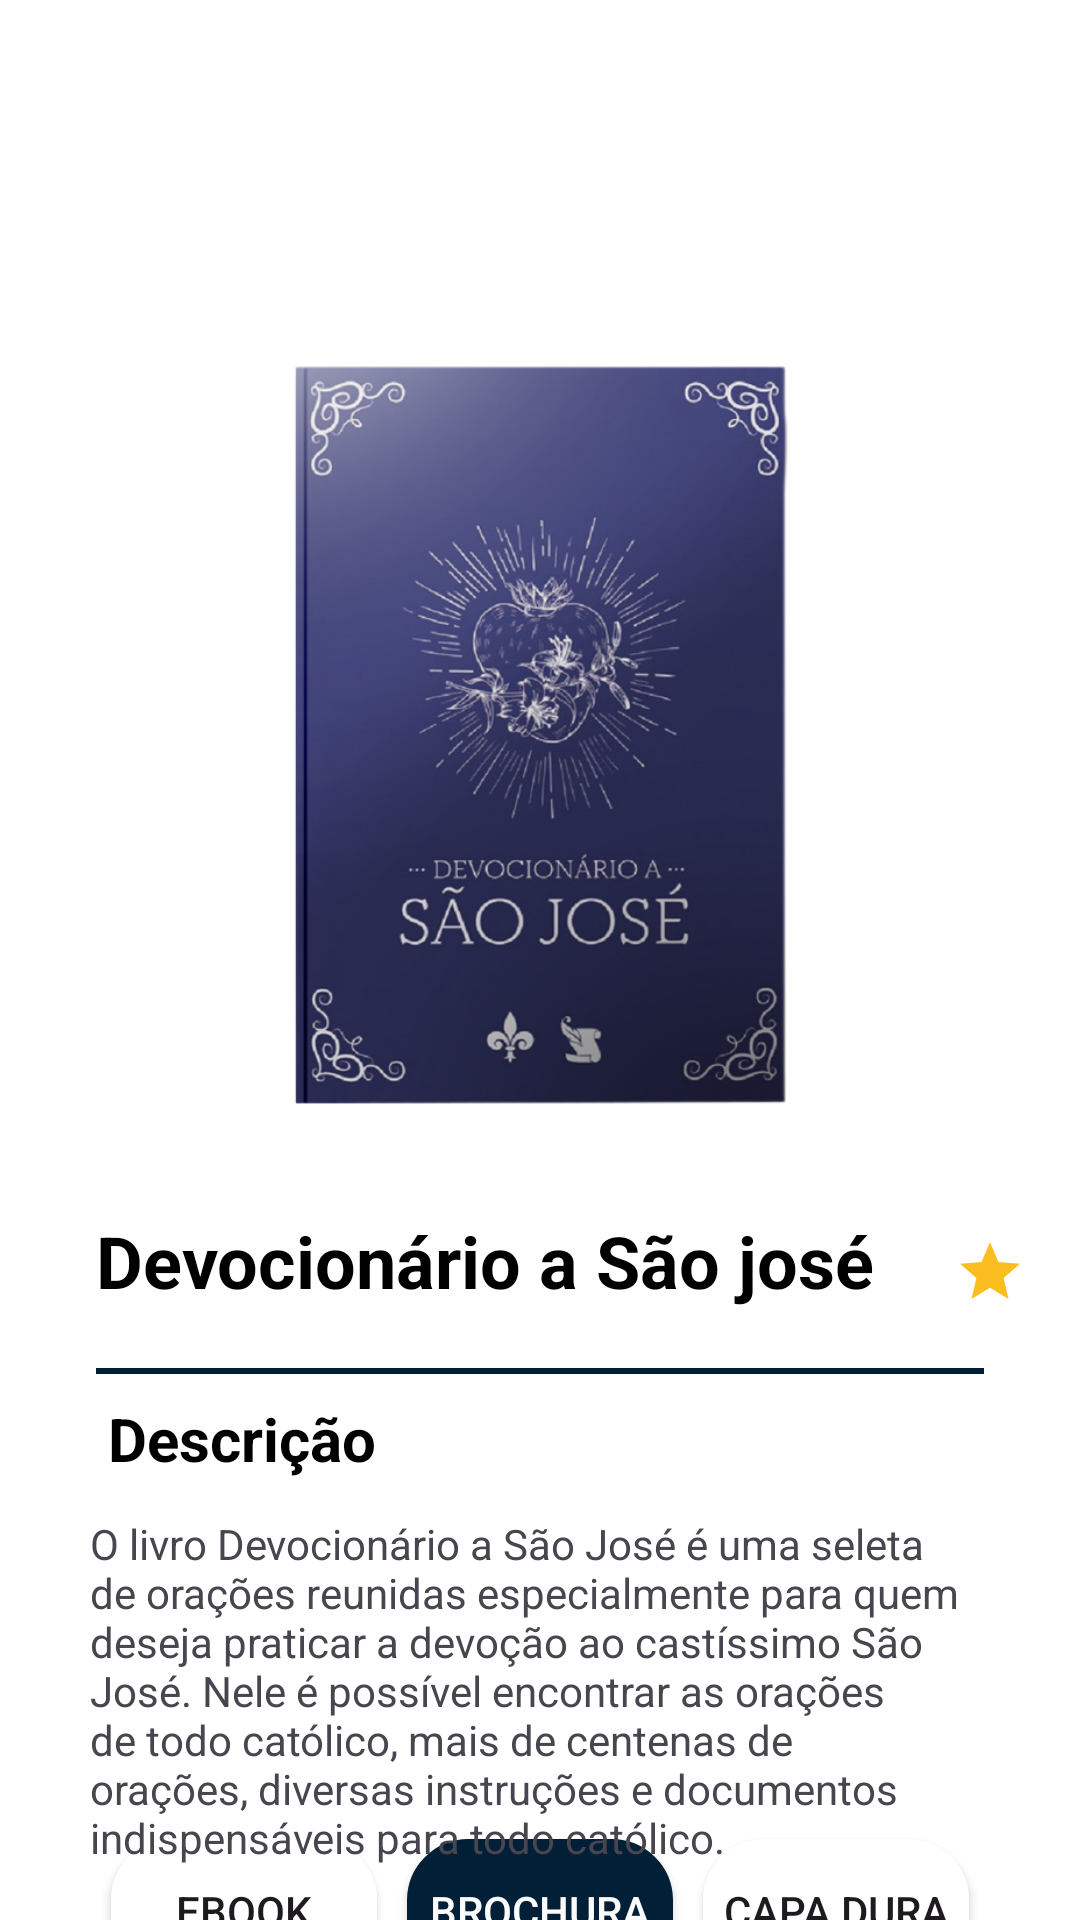

Locate icon controls on the screen. Image size 1080w x 1920h, boxes as (x1, y1, x2, y2).
star: (960, 1242, 1020, 1299)
